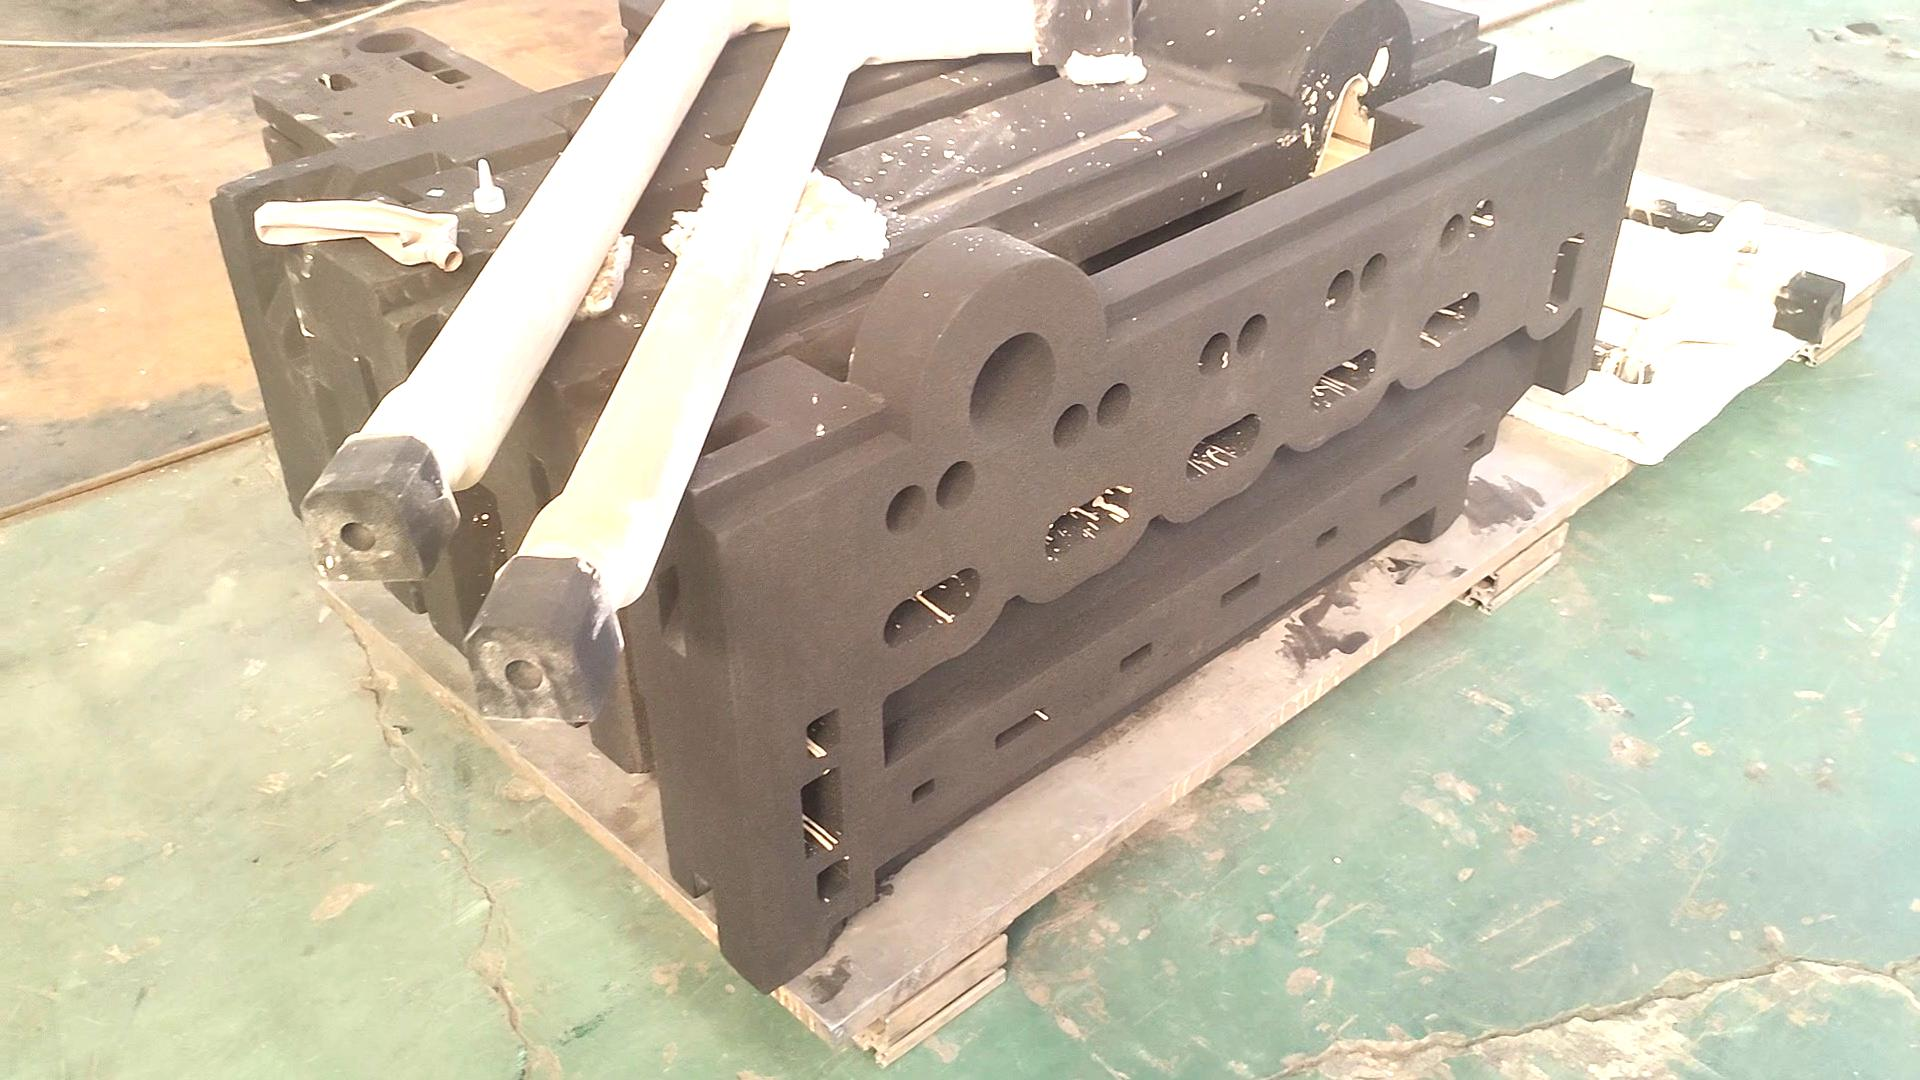pouring hole: (969, 332, 1058, 446), (355, 32, 417, 53)
